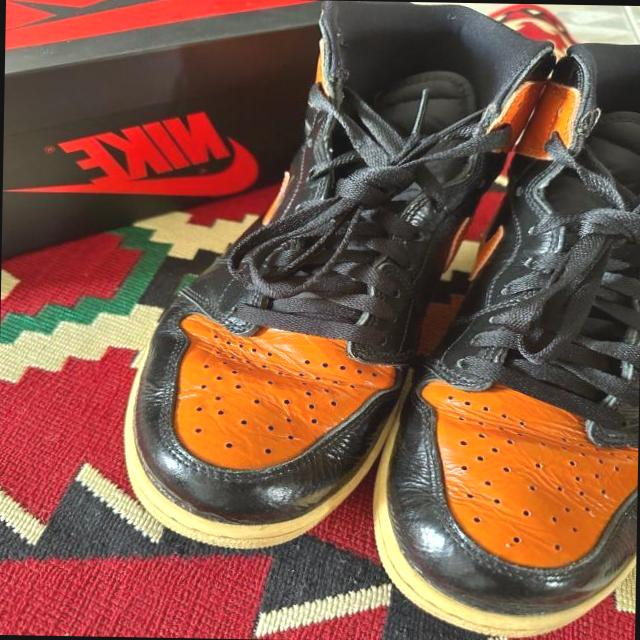nike_original_jordan: (0, 0, 566, 556), (358, 89, 640, 640)
